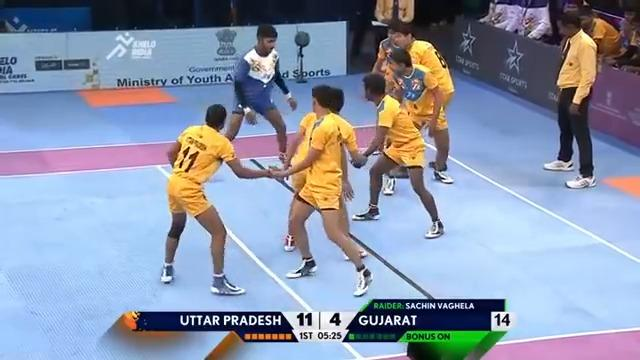Player: (267, 83, 373, 296), (159, 103, 273, 295), (350, 72, 444, 238), (542, 10, 599, 188)
Raider: (221, 23, 297, 165)
referee: (373, 19, 455, 185)
